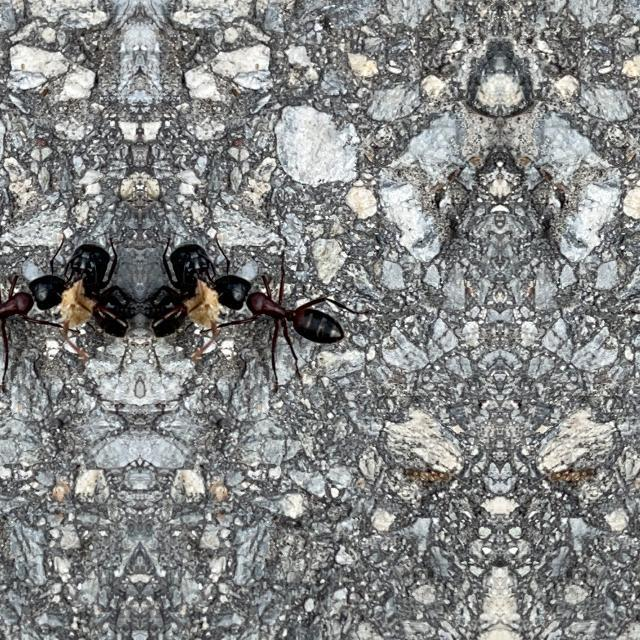Camponotus: (206, 238, 358, 384), (140, 213, 226, 363), (54, 213, 140, 363), (0, 238, 72, 384)
